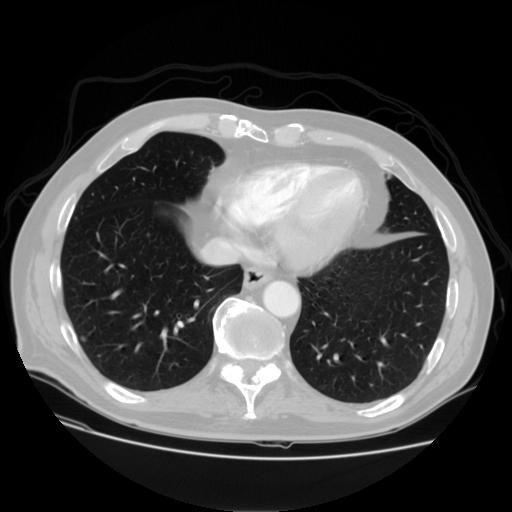nodule: (77, 334, 88, 345)
